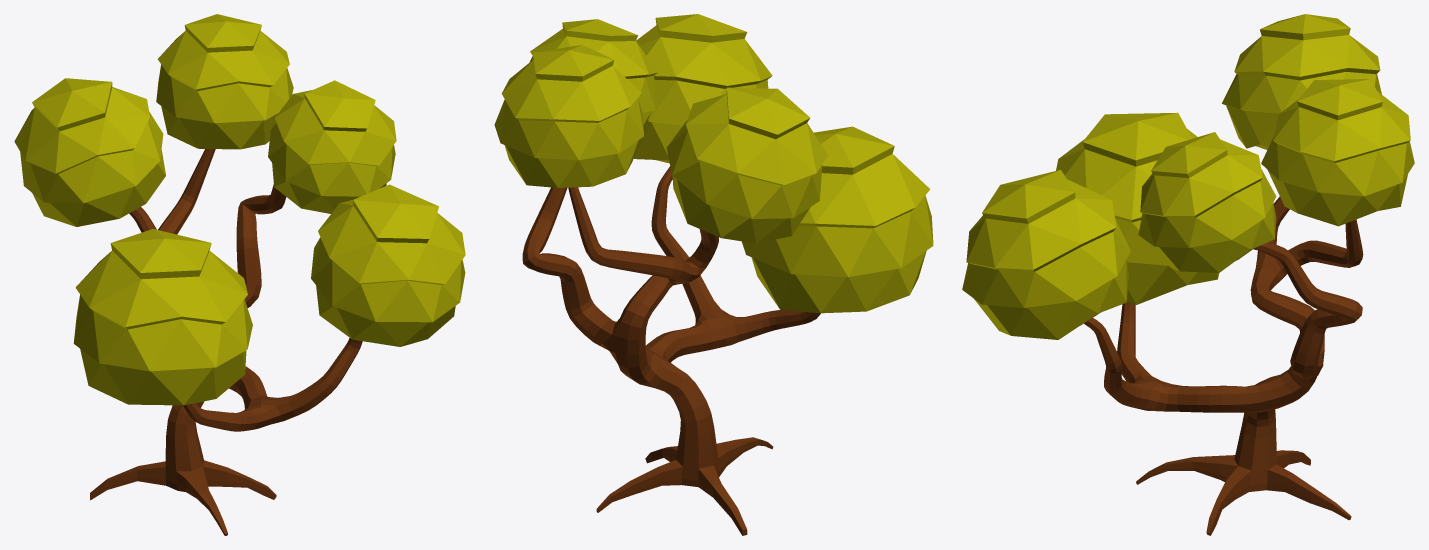
The model's file is Tree005.fbx.
3 views of the same model, side by side, from view 1: azimuth 30°, elevation 25°; view 2: azimuth 150°, elevation 25°; view 3: azimuth 270°, elevation 25° (orthographic). The views are drawn at different scales.
Visible parts, largest first — view 1: TreeLeave005, TreeStem005; view 2: TreeLeave005, TreeStem005; view 3: TreeLeave005, TreeStem005.
Boxes of the visible parts, bbox=[...] form: TreeLeave005: bbox=[14, 14, 465, 405]; TreeStem005: bbox=[90, 149, 362, 535]; TreeLeave005: bbox=[494, 14, 933, 313]; TreeStem005: bbox=[522, 166, 820, 535]; TreeLeave005: bbox=[962, 14, 1414, 339]; TreeStem005: bbox=[1084, 196, 1363, 535].
Size of the model in its own units: 568 by 698 by 625.
